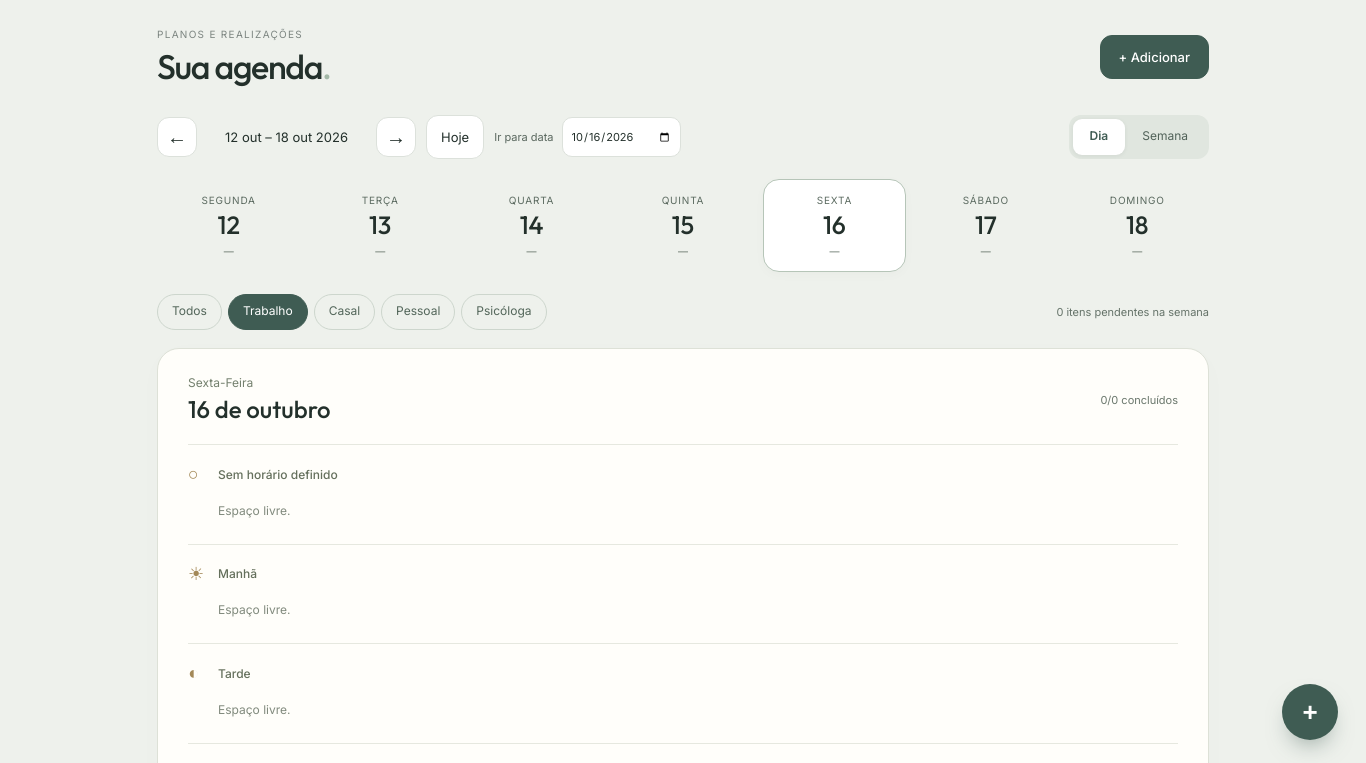
o botão flutuante da agenda abre uma tarefa no dia e assunto selecionados
This screenshot has width=1366, height=763.
Click the button named "Nova tarefa ou compromisso": click(1310, 712) x1=1282 y1=684 x2=1338 y2=740
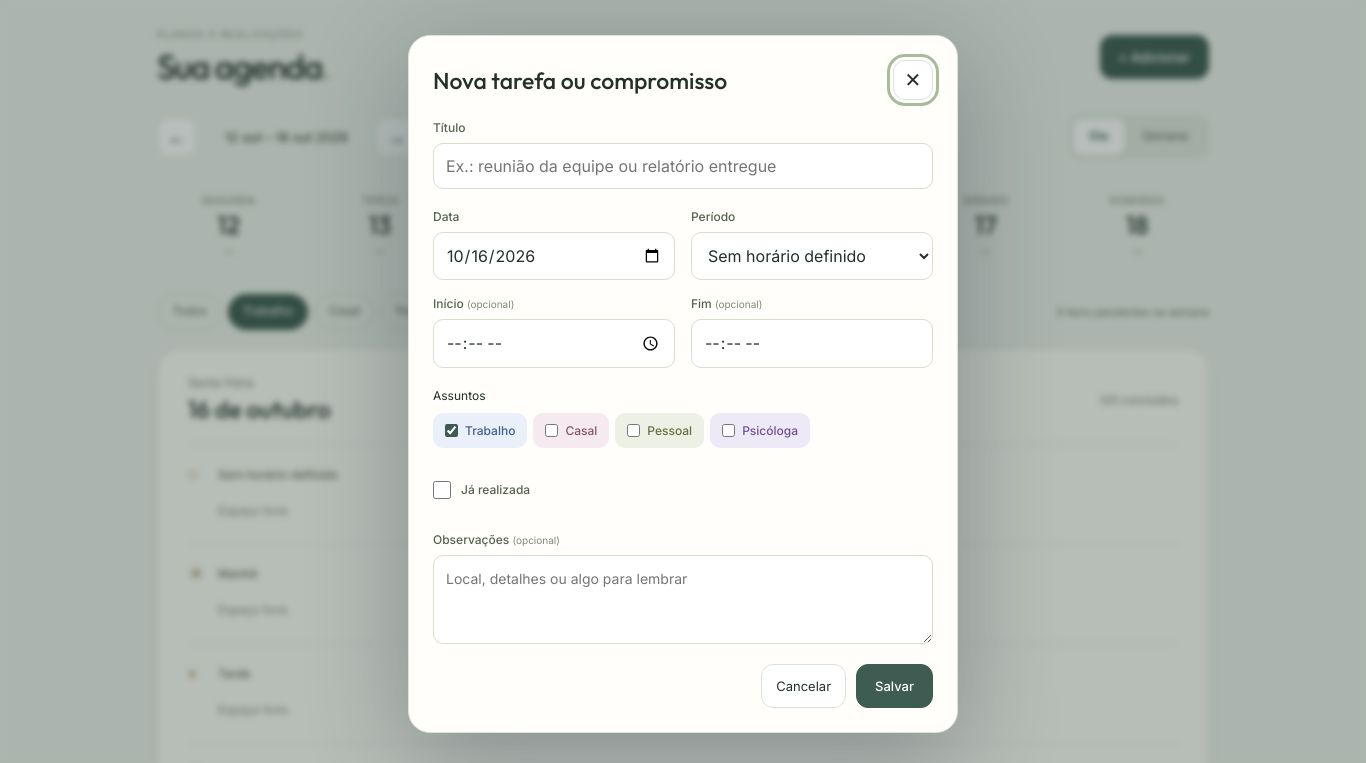
Expected: the dialog "Nova tarefa ou compromisso" is shown, x1=408 y1=35 x2=958 y2=733
Expected: the date field labelled "Data" holds "2026-10-16", x1=433 y1=232 x2=675 y2=280
Expected: the checkbox labelled "Trabalho" is checked, x1=445 y1=424 x2=458 y2=437
